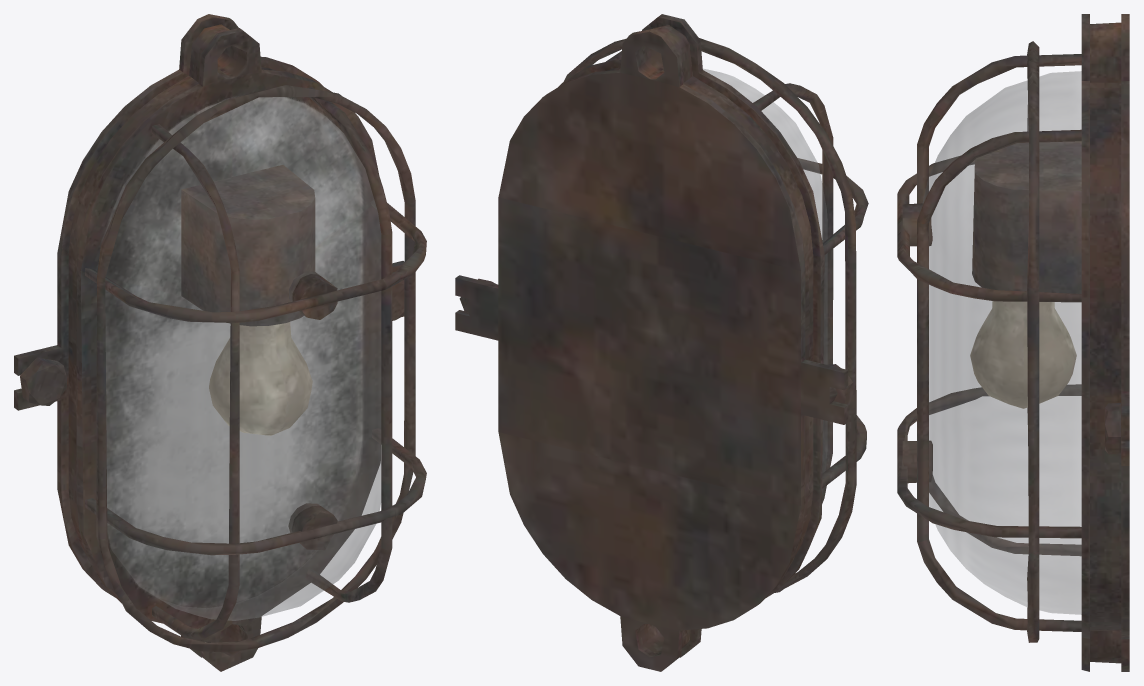
File: industrial_wall_lamp.glb
3 views of the same model, side by side, from view 1: azimuth 30°, elevation 25°; view 2: azimuth 150°, elevation 25°; view 3: azimuth 270°, elevation 25° (orthographic).
Visible parts, largest first — view 1: industrial_wall_lamp; view 2: industrial_wall_lamp; view 3: industrial_wall_lamp.
Part boxes in pixels (<box>): industrial_wall_lamp: <box>14,14,426,671</box>; industrial_wall_lamp: <box>455,14,868,671</box>; industrial_wall_lamp: <box>897,14,1129,671</box>.
Size of the model in its own units: 0.2734 by 0.4283 by 0.1389.
Materials: 2 (2 with a texture image).
